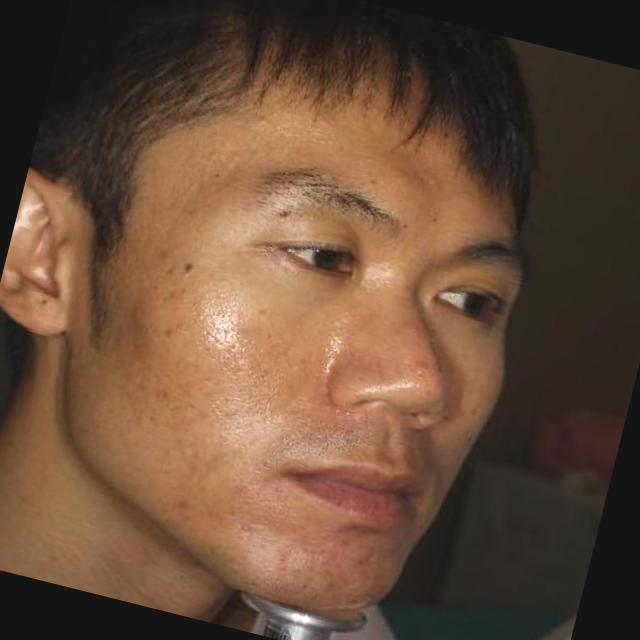darkspot: (162, 486, 202, 522)
nodules: (110, 286, 182, 367)
